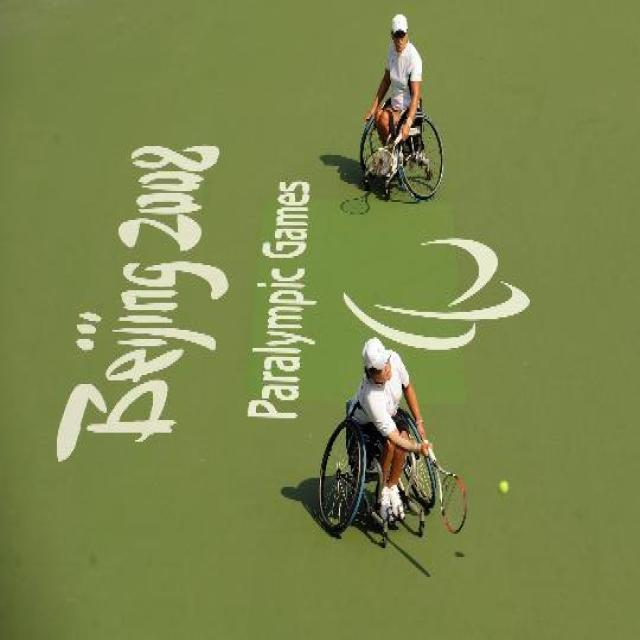wheelchairs: (314, 380, 448, 555), (349, 95, 452, 207)
